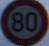Speed Limit -80-: (0, 0, 48, 45)
